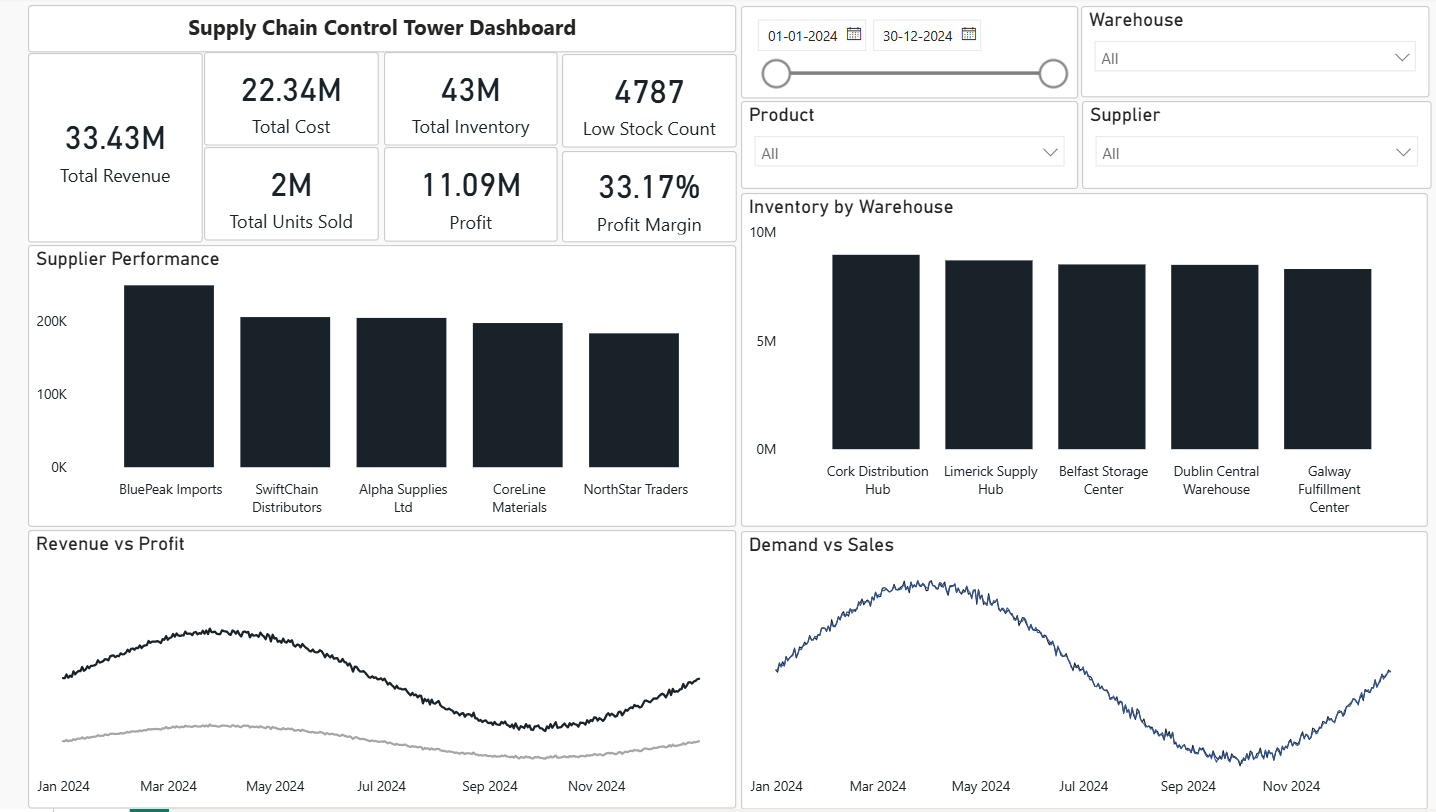

The dashboard page shown, as its layout file describes it:
{"tool":"powerbi","page":{"name":"Page 1","canvas":[1280,720],"ordinal":0},"visuals":[{"type":"card","fields":{"Values":["fact_supply_chain.Total Revenue"]},"box":[25.6,49.2,154.7,168.1],"z":0},{"type":"card","fields":{"Values":["fact_supply_chain.Total Units Sold"]},"box":[181.4,133.2,154.7,83],"z":1000},{"type":"lineChart","title":"Demand vs Sales","fields":{"Category":["dim_date.full_date"],"Y":["Sum(fact_supply_chain.demand_forecast)","fact_supply_chain.Total Units Sold"]},"box":[657.9,473.5,608.7,247],"z":2000},{"type":"clusteredColumnChart","title":"Inventory by Warehouse","fields":{"Category":["dim_warehouse.warehouse_name"],"Y":["fact_supply_chain.Total Inventory"]},"box":[657.9,174.2,608.7,296.2],"z":3000},{"type":"columnChart","title":"Supplier Performance","fields":{"Category":["dim_supplier.supplier_name"],"Y":["fact_supply_chain.Total Units Sold"]},"box":[25.6,220.3,628.2,250.1],"z":4000},{"type":"card","fields":{"Values":["fact_supply_chain.Profit"]},"box":[341.3,133.2,153.7,84],"z":5000},{"type":"card","fields":{"Values":["fact_supply_chain.Profit Margin"]},"box":[499.1,136.3,154.7,81],"z":6000},{"type":"card","fields":{"Values":["fact_supply_chain.Total Inventory"]},"box":[341.3,49.2,153.7,83],"z":7000},{"type":"card","fields":{"Values":["fact_supply_chain.Total Cost"]},"box":[181.4,49.2,154.7,83],"z":8000},{"type":"card","fields":{"Values":["fact_supply_chain.Low Stock Count"]},"box":[499.1,50.2,154.7,83],"z":9000},{"type":"slicer","fields":{"Values":["dim_date.full_date"]},"box":[657.9,8.2,299.2,82],"z":10000},{"type":"slicer","title":"Warehouse","fields":{"Values":["dim_warehouse.warehouse_name"]},"box":[959.5,8.2,309.5,81.5],"z":11000},{"type":"slicer","title":"Product","fields":{"Values":["dim_product.product_name"]},"box":[657.9,92.2,299.2,77.9],"z":12000},{"type":"slicer","title":"Supplier","fields":{"Values":["dim_supplier.supplier_name"]},"box":[960,92,309.8,77.7],"z":13000},{"type":"textbox","box":[25.6,7.2,628.2,42],"z":14000},{"type":"lineChart","title":"Revenue vs Profit","fields":{"Category":["dim_date.full_date"],"Y":["fact_supply_chain.Total Revenue","fact_supply_chain.Profit"]},"box":[26,473,628,247],"z":15000}]}

Visuals, with their boxes in screenshot pixels (x1, y1, x2, y2), scaled from the page's 1280x720 canvas onto the 1436x812 screenshot:
card - fact_supply_chain.Total Revenue: region(29, 55, 202, 245)
card - fact_supply_chain.Total Units Sold: region(204, 150, 377, 244)
"Demand vs Sales" lineChart: region(738, 534, 1421, 811)
"Inventory by Warehouse" clusteredColumnChart: region(738, 196, 1421, 531)
"Supplier Performance" columnChart: region(29, 248, 733, 531)
card - fact_supply_chain.Profit: region(383, 150, 555, 245)
card - fact_supply_chain.Profit Margin: region(560, 154, 733, 245)
card - fact_supply_chain.Total Inventory: region(383, 55, 555, 149)
card - fact_supply_chain.Total Cost: region(204, 55, 377, 149)
card - fact_supply_chain.Low Stock Count: region(560, 57, 733, 150)
slicer - dim_date.full_date: region(738, 9, 1074, 102)
"Warehouse" slicer: region(1076, 9, 1424, 101)
"Product" slicer: region(738, 104, 1074, 192)
"Supplier" slicer: region(1077, 104, 1425, 191)
textbox: region(29, 8, 733, 55)
"Revenue vs Profit" lineChart: region(29, 533, 734, 811)
